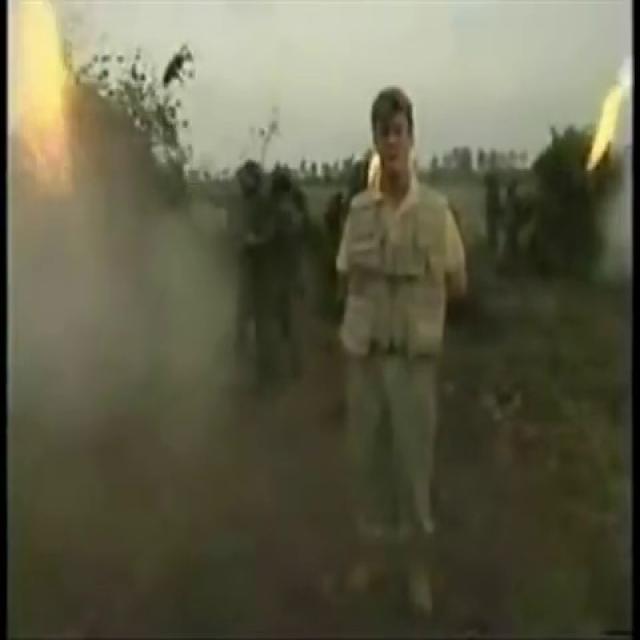Fire: (7, 0, 88, 201)
Smoke: (7, 1, 270, 639)
